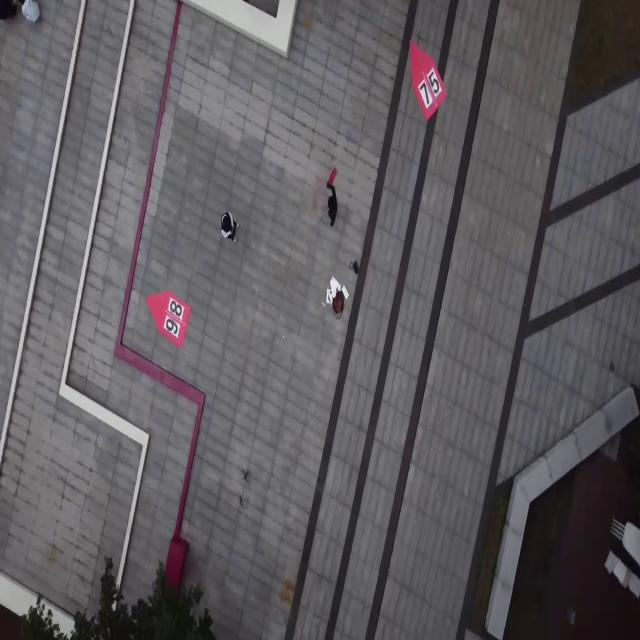-sign-: (408, 39, 448, 125), (145, 289, 191, 348)
